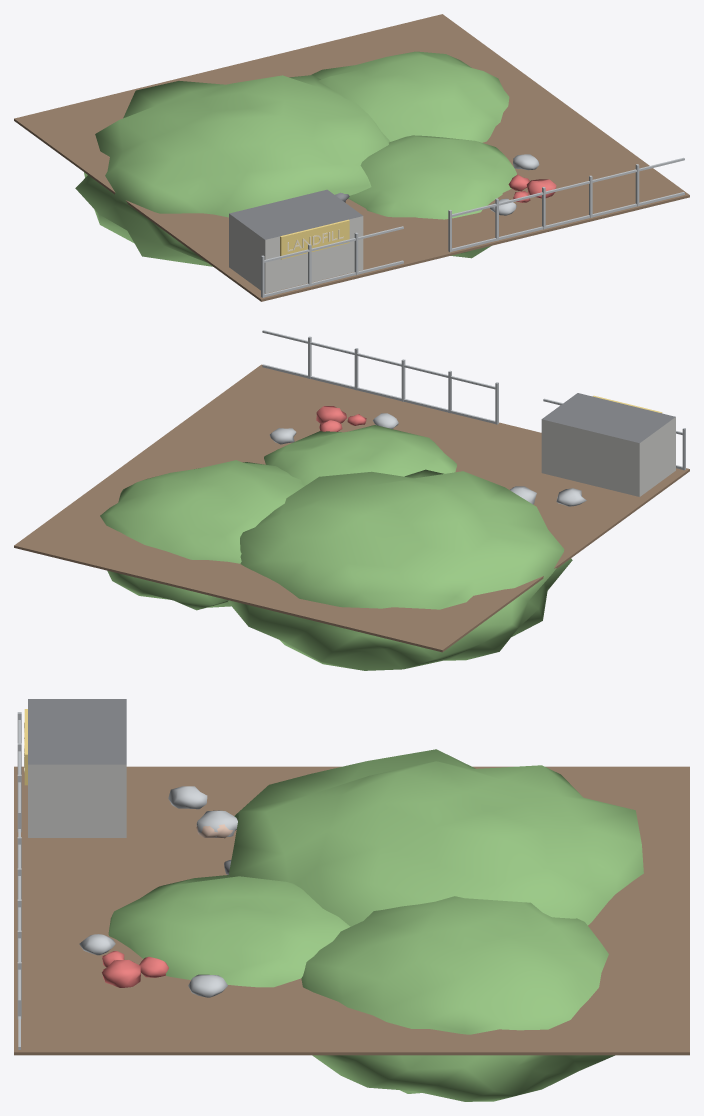
File: landfill.glb
3 renders of one model, top to bottom at view 1: azimuth 30°, elevation 25°; view 2: azimuth 150°, elevation 25°; view 3: azimuth 270°, elevation 25°, orthographic. The views are drawn at different scales.
Visible parts, largest first — view 1: landfill; view 2: landfill; view 3: landfill.
Part boxes in pixels (<box>): landfill: <box>14,14,689,301</box>; landfill: <box>14,330,689,670</box>; landfill: <box>14,699,689,1101</box>.
Size of the model in its own units: 24.22 by 7.78 by 24.
